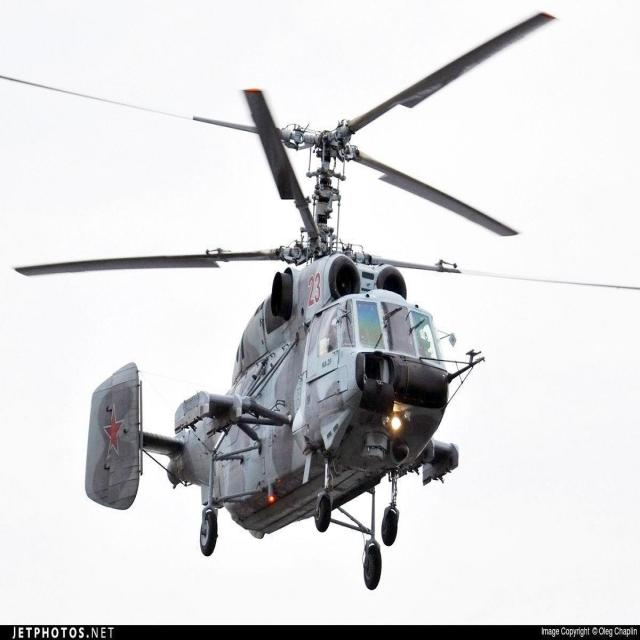MIL_HELO: (0, 33, 624, 600)
